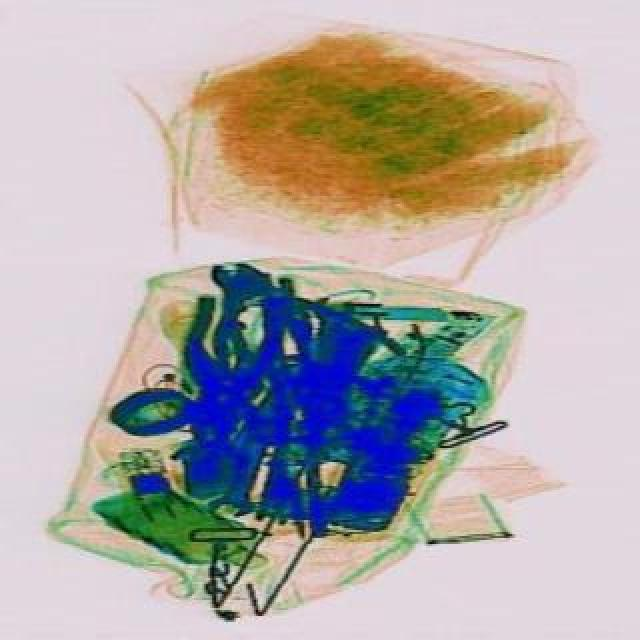wrench: (178, 216, 410, 434), (172, 288, 292, 456)
